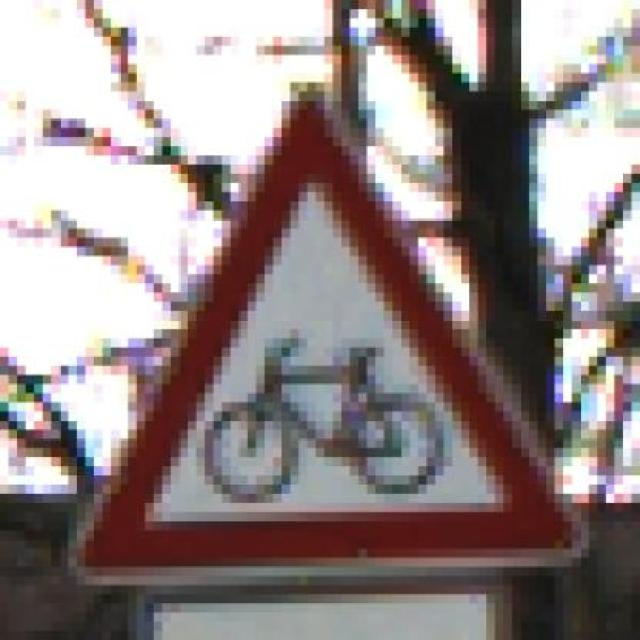CYCLE ROUTE AHEAD WARNING: (42, 92, 598, 586)
